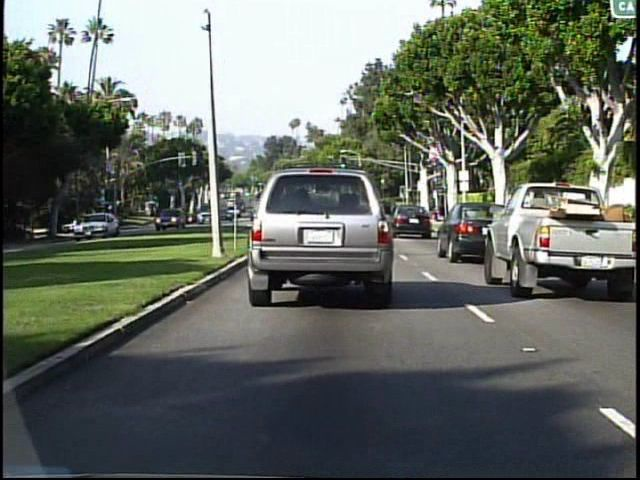person: (69, 212, 82, 235)
